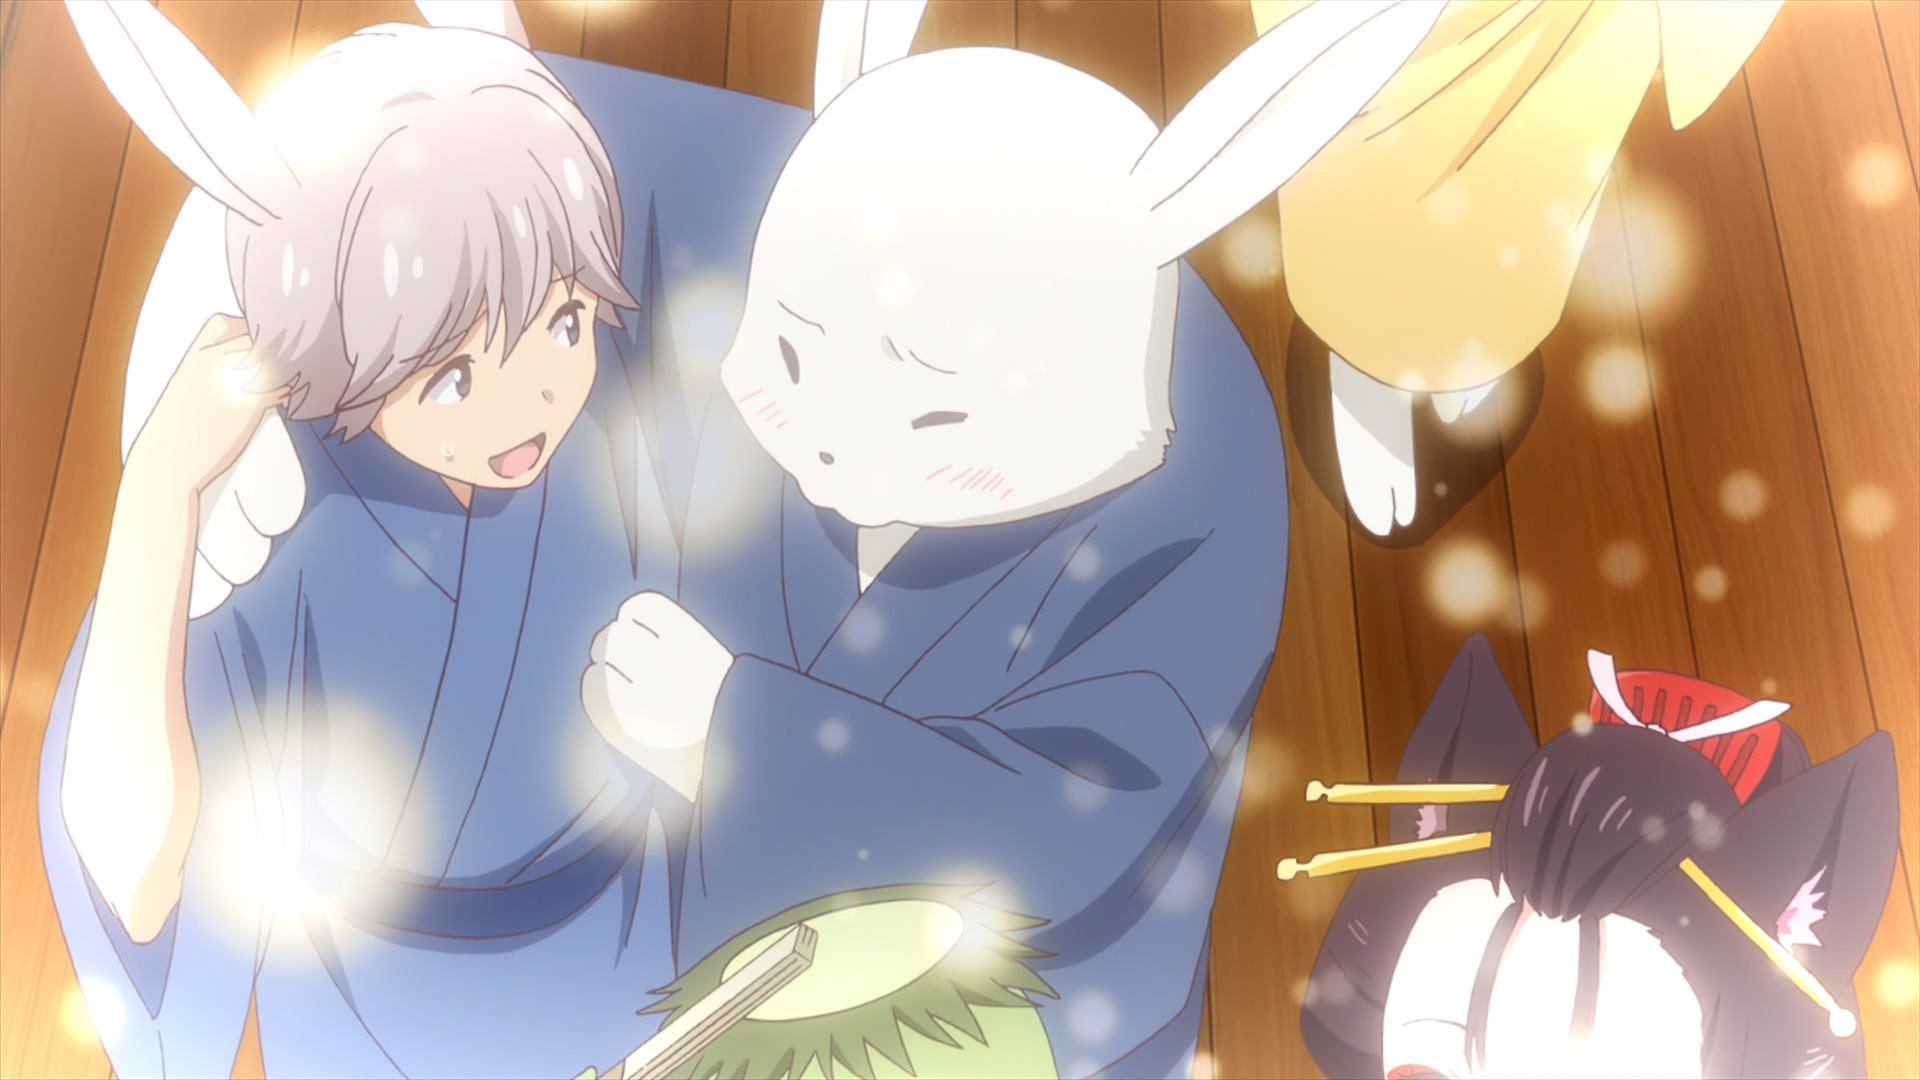其他: (65, 1, 1443, 1080), (41, 1, 678, 1080), (1247, 1, 1784, 542), (1276, 636, 1902, 1080), (567, 880, 1055, 1080)
